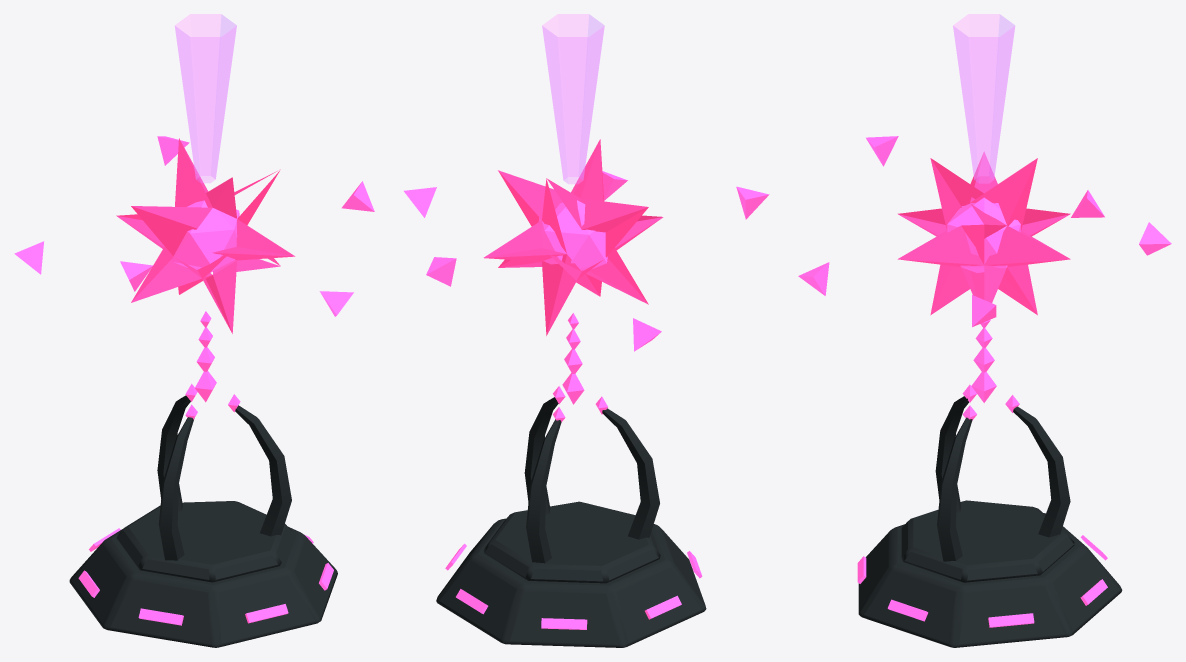
The model's file is tap.glb.
3 views of the same model, side by side, from view 1: azimuth 30°, elevation 25°; view 2: azimuth 150°, elevation 25°; view 3: azimuth 270°, elevation 25° (orthographic).
Visible parts, largest first — view 1: body_metal_dark, core_star, body_glow_uplink, body_role_glow, core_heart, shards_role_glow; view 2: body_metal_dark, core_star, body_glow_uplink, body_role_glow, shards_role_glow, core_heart; view 3: body_metal_dark, core_star, body_glow_uplink, body_role_glow, shards_role_glow, core_heart.
Part boxes in pixels (left/top/right/bottom): body_metal_dark: left=69, top=395, right=337, bottom=647; core_star: left=116, top=138, right=295, bottom=333; body_glow_uplink: left=175, top=14, right=236, bottom=182; body_role_glow: left=78, top=311, right=333, bottom=625; core_heart: left=172, top=200, right=239, bottom=272; shards_role_glow: left=14, top=136, right=374, bottom=316; body_metal_dark: left=436, top=397, right=706, bottom=647; core_star: left=483, top=139, right=663, bottom=335; body_glow_uplink: left=542, top=14, right=604, bottom=183; body_role_glow: left=445, top=313, right=702, bottom=629; shards_role_glow: left=404, top=171, right=769, bottom=351; core_heart: left=538, top=200, right=607, bottom=270; body_metal_dark: left=858, top=396, right=1122, bottom=647; core_star: left=897, top=152, right=1070, bottom=315; body_glow_uplink: left=953, top=14, right=1015, bottom=183; body_role_glow: left=857, top=320, right=1107, bottom=627; shards_role_glow: left=798, top=136, right=1171, bottom=327; core_heart: left=947, top=197, right=1020, bottom=272.
Size of the model in its own units: 1.23 by 2.2 by 1.32.
